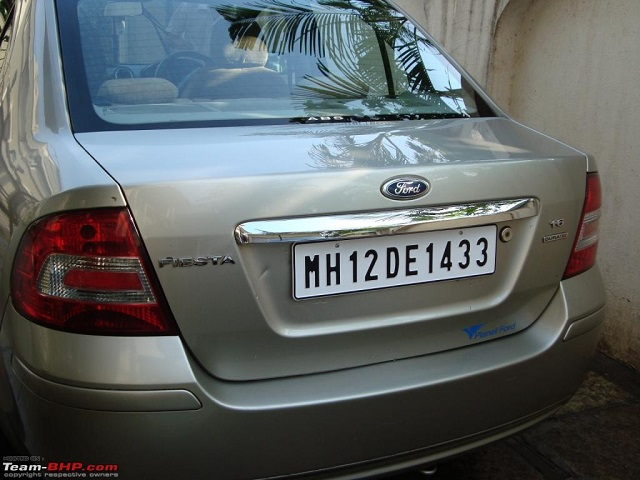licenseplate: (294, 224, 503, 302)
